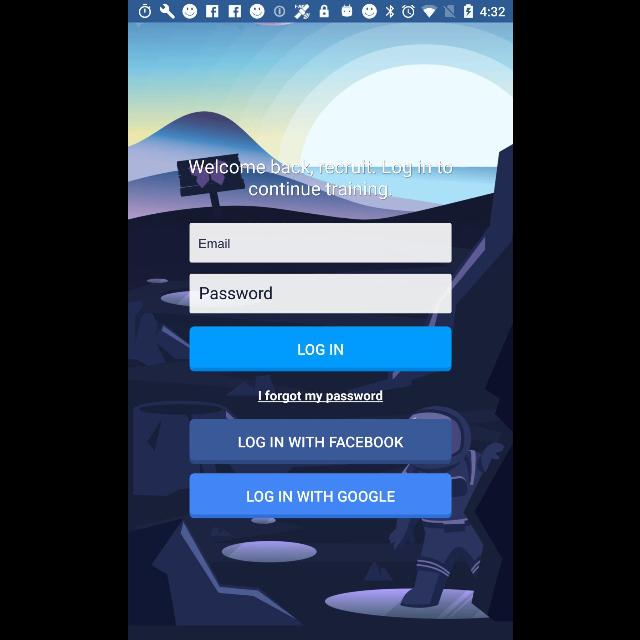backgroundimage: (128, 22, 512, 640)
input: (189, 274, 451, 314), (189, 224, 451, 262)
text: (188, 160, 452, 200), (258, 391, 382, 404), (199, 286, 271, 300), (198, 238, 230, 248)
textbutton: (189, 326, 451, 372), (189, 474, 451, 518), (189, 420, 451, 464)
uppertaskbar: (128, 1, 512, 23)
